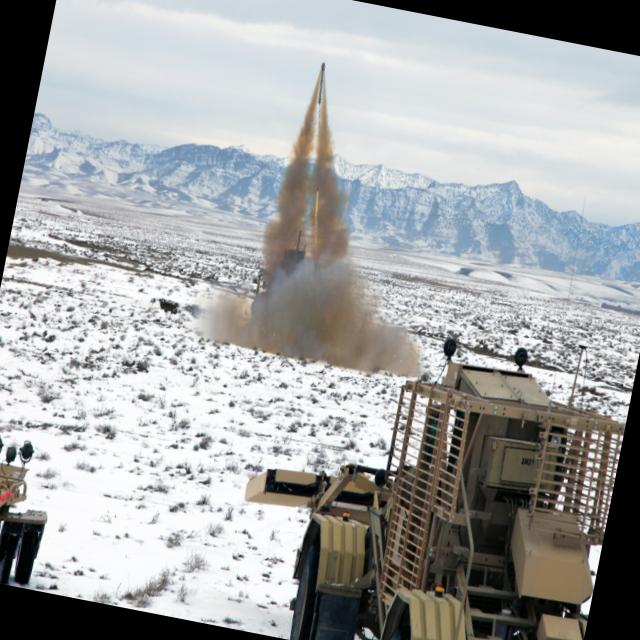rocket: (296, 60, 343, 176)
